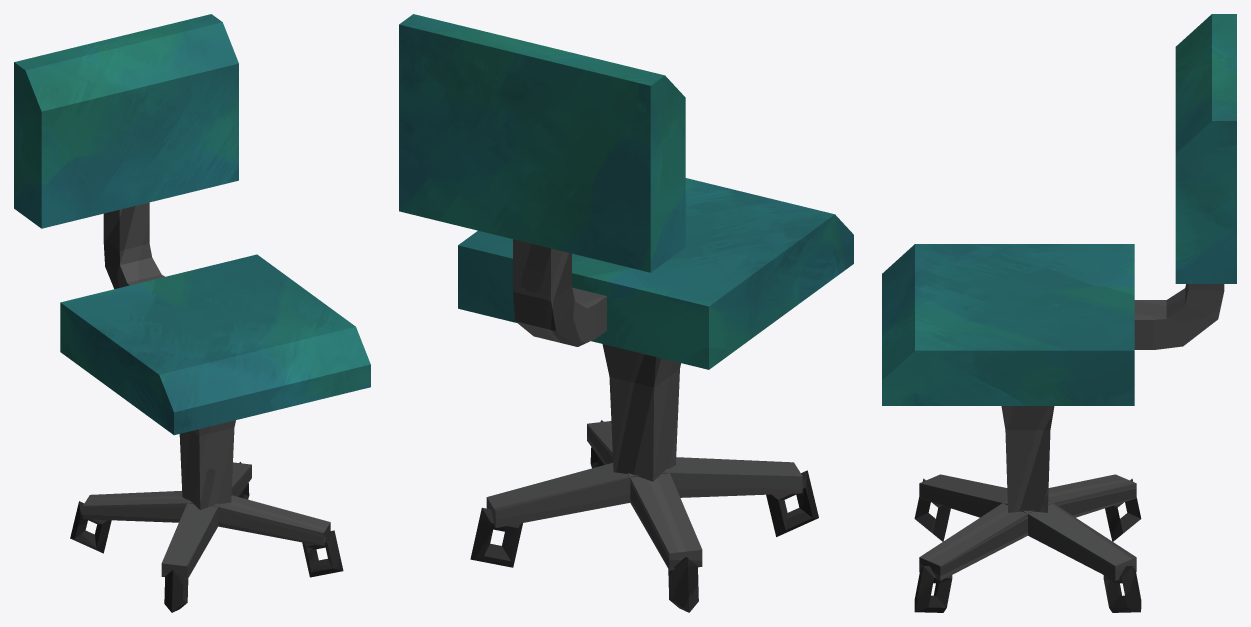
File: Prop_Chair.glb
3 views of the same model, side by side, from view 1: azimuth 30°, elevation 25°; view 2: azimuth 150°, elevation 25°; view 3: azimuth 270°, elevation 25° (orthographic). The views are drawn at different scales.
Parts seen in each view (by area): view 1: Prop_Chair; view 2: Prop_Chair; view 3: Prop_Chair.
Boxes of the visible parts, left/top/right/bottom form: Prop_Chair: left=14, top=14, right=370, bottom=612; Prop_Chair: left=399, top=14, right=853, bottom=612; Prop_Chair: left=882, top=14, right=1236, bottom=612.
Size of the model in its own units: 0.5956 by 1.32 by 0.8342.
Materials: 1 (1 with a texture image).
